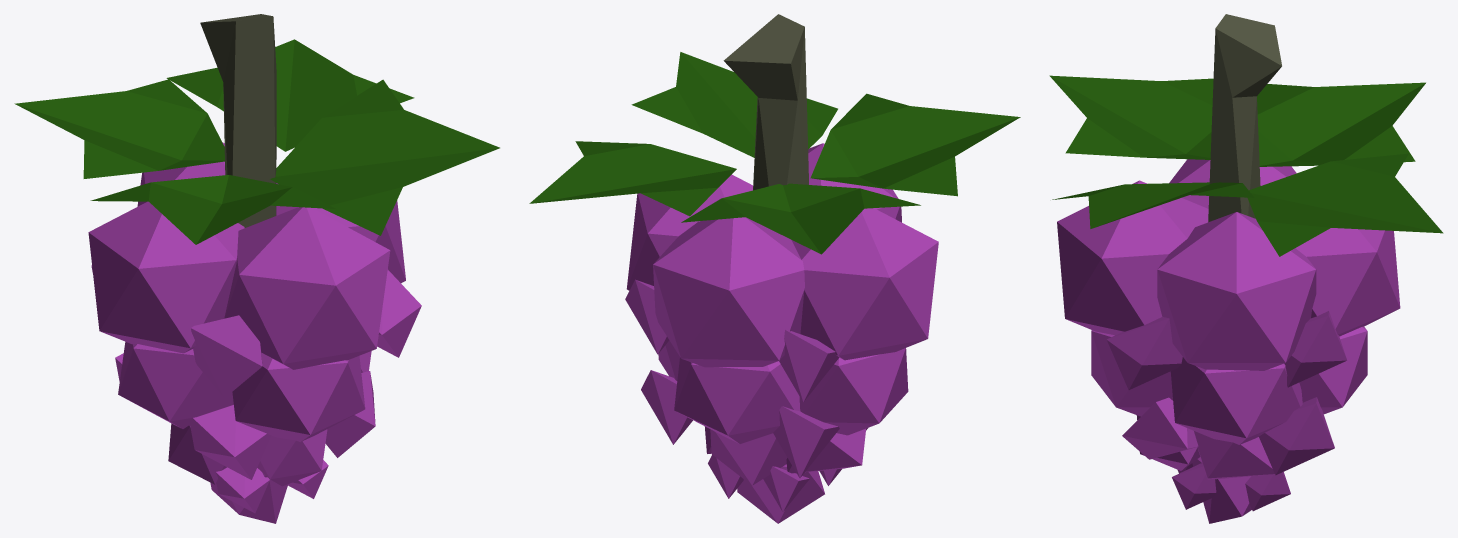
Rendered from Grapes.fbx.
3 renders of one model, left to right at view 1: azimuth 30°, elevation 25°; view 2: azimuth 150°, elevation 25°; view 3: azimuth 270°, elevation 25°, orthographic.
Visible parts, largest first — view 1: Grapes; view 2: Grapes; view 3: Grapes.
Part boxes in pixels (left/top/right/bottom): Grapes: left=14, top=14, right=499, bottom=523; Grapes: left=529, top=14, right=1020, bottom=523; Grapes: left=1049, top=14, right=1443, bottom=523.
Size of the model in its own units: 10.75 by 14.52 by 10.46.
